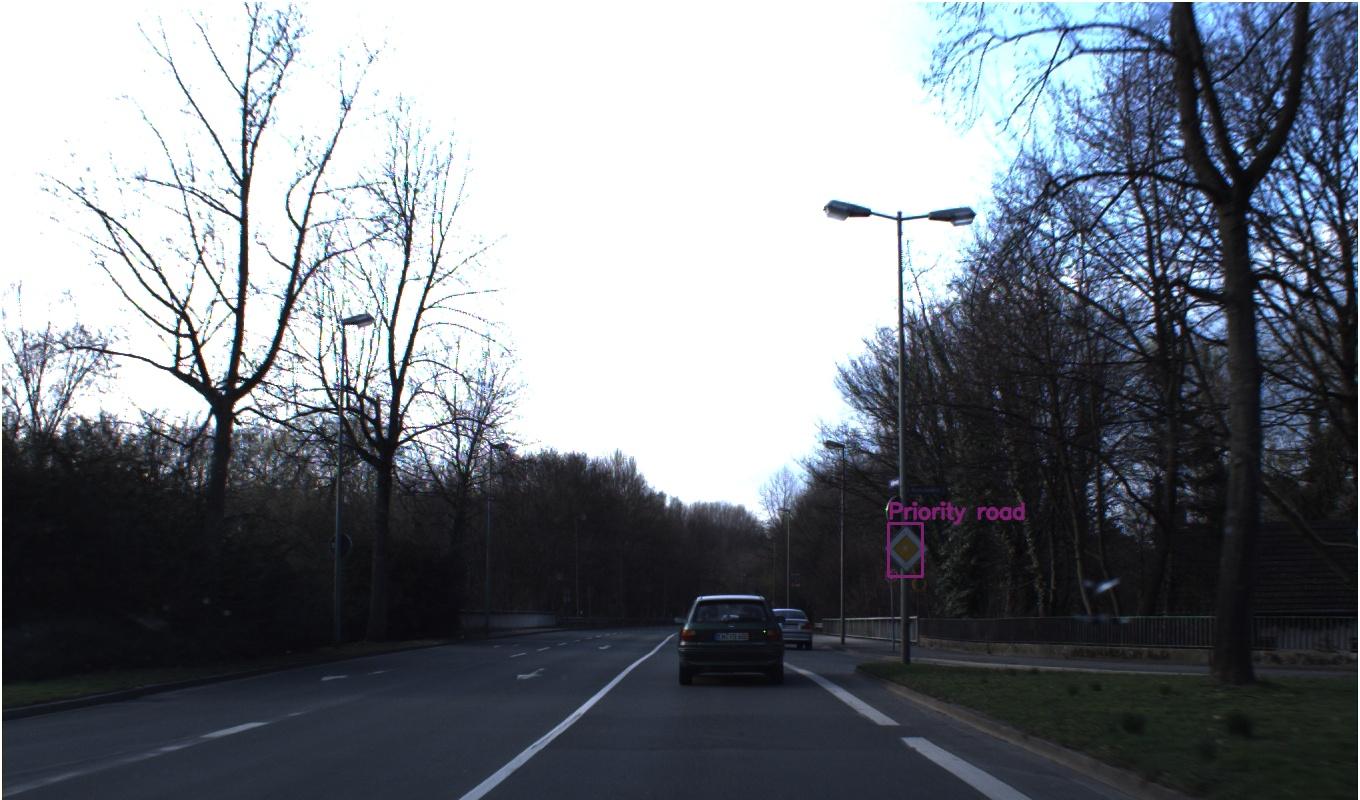No passing: (819, 388, 848, 417)
